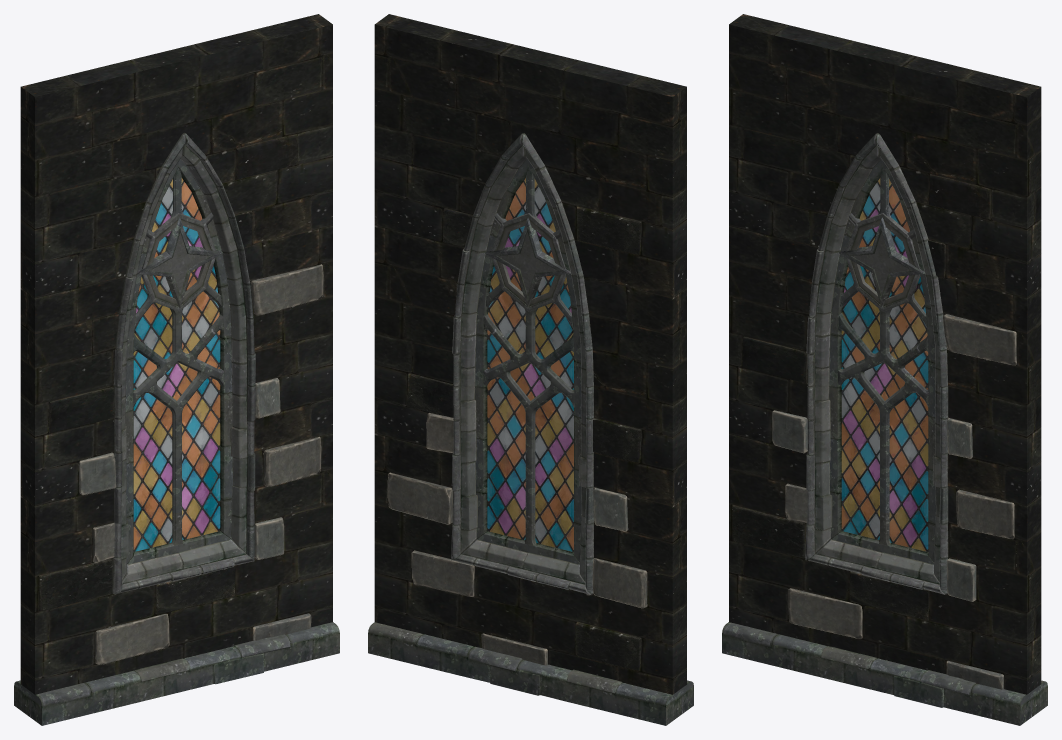
3 renders of one model, left to right at view 1: azimuth 30°, elevation 25°; view 2: azimuth 150°, elevation 25°; view 3: azimuth 330°, elevation 25°, orthographic.
Visible parts, largest first — view 1: SM_SaradominTemple_Window_6x12_01_v1_LOD0; view 2: SM_SaradominTemple_Window_6x12_01_v1_LOD0; view 3: SM_SaradominTemple_Window_6x12_01_v1_LOD0.
Part boxes in pixels (x1=…): SM_SaradominTemple_Window_6x12_01_v1_LOD0: x1=14, y1=14, x2=339, y2=725; SM_SaradominTemple_Window_6x12_01_v1_LOD0: x1=368, y1=14, x2=693, y2=725; SM_SaradominTemple_Window_6x12_01_v1_LOD0: x1=722, y1=14, x2=1047, y2=725.
Bounding box in the file's own units: 6 × 12 × 1.05.
4 materials, 4 textured.
